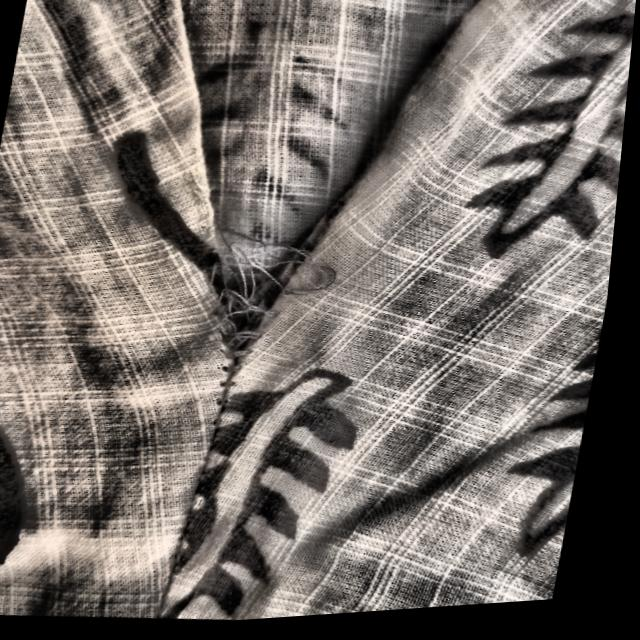Stitch: (79, 182, 379, 485)
